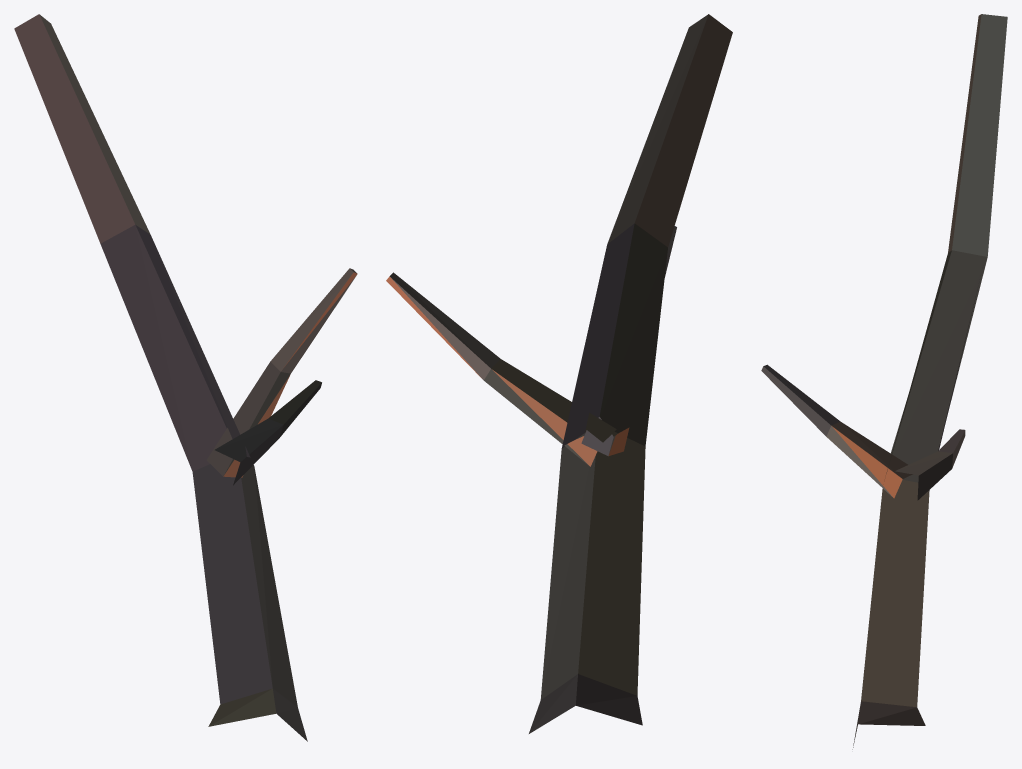
File: Tree_Burnt_03_Far.glb
3 renders of one model, left to right at view 1: azimuth 30°, elevation 25°; view 2: azimuth 150°, elevation 25°; view 3: azimuth 270°, elevation 25°, orthographic. The views are drawn at different scales.
Visible parts, largest first — view 1: Tree_Burnt_03_Far; view 2: Tree_Burnt_03_Far; view 3: Tree_Burnt_03_Far.
Part boxes in pixels (x1,y1,x2,y2): Tree_Burnt_03_Far: [14, 14, 357, 741]; Tree_Burnt_03_Far: [386, 14, 732, 733]; Tree_Burnt_03_Far: [761, 14, 1007, 749].
Bounding box in the file's own units: 3.53 × 7.55 × 2.58.
